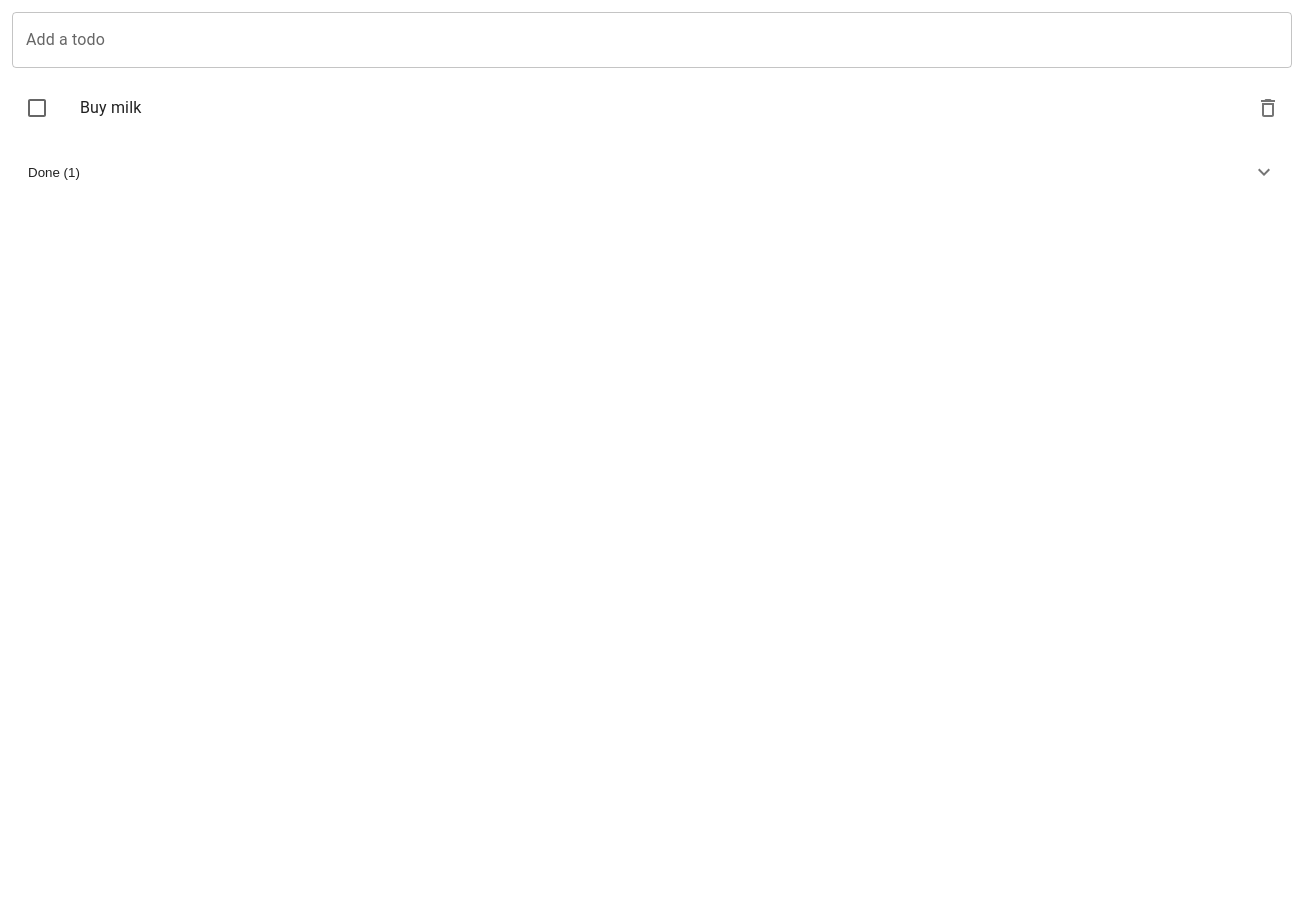
Test: a done todo deleted from Done goes right away, and Undo puts it back in Done
This screenshot has width=1304, height=912.
Click the button "Done (1)" at (48, 172), box [12,148,1292,196]
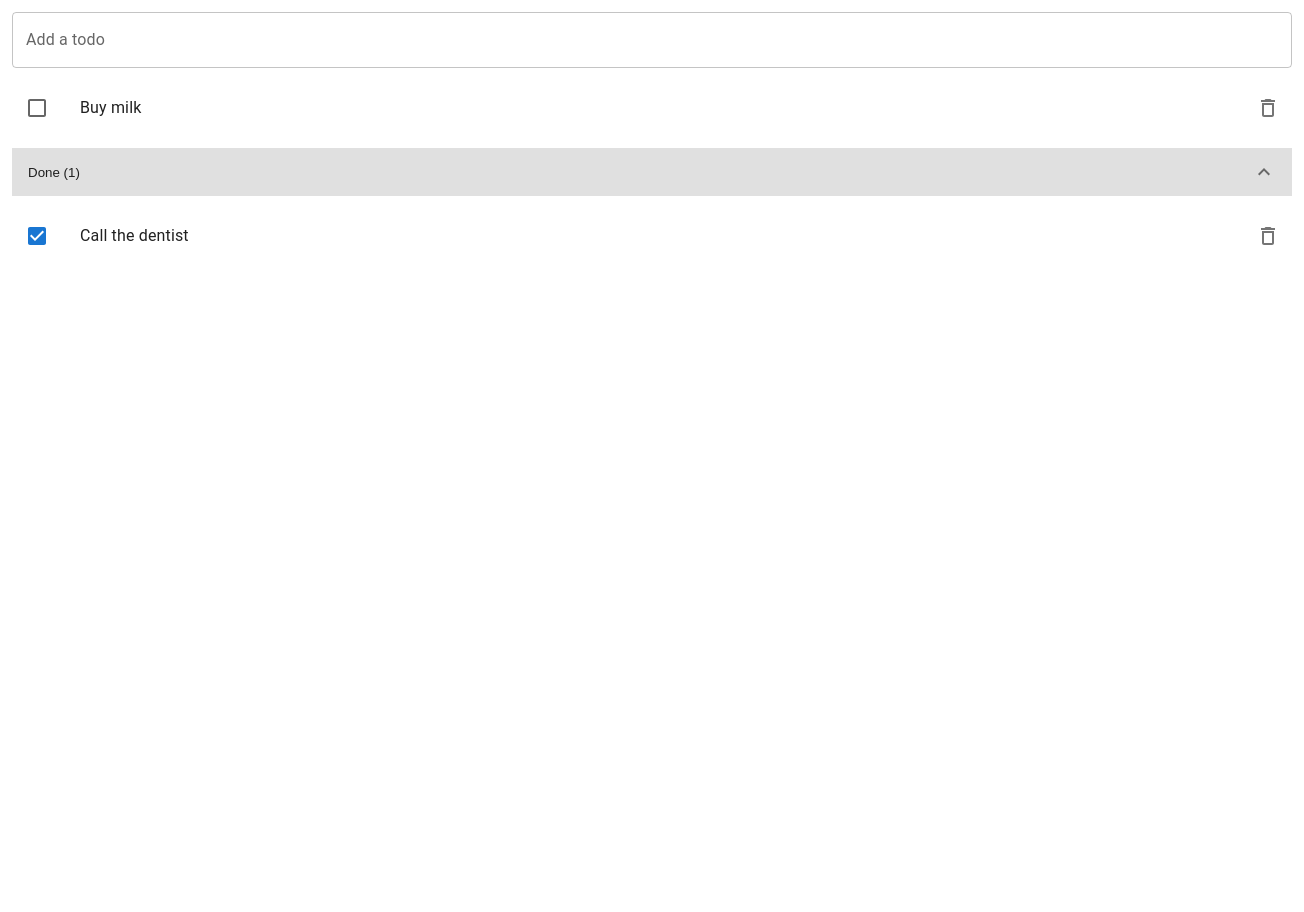
Click the button named "Delete Call the dentist" at (1268, 236), box [1248,216,1288,256]
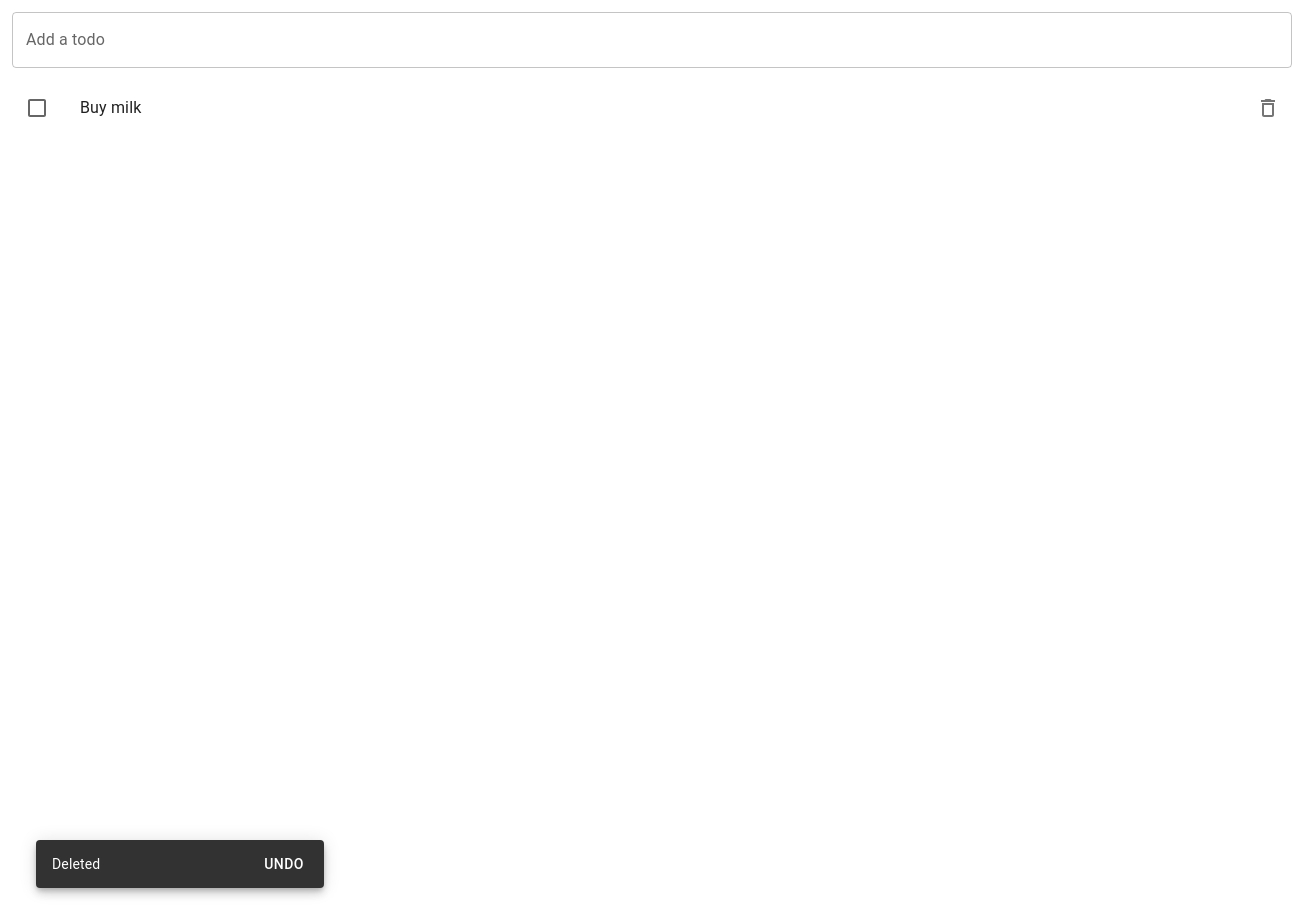
Expected: the button "Call the dentist" is gone
Expected: the button "Done" is gone
Click the button "Undo" at (284, 864), box [252,846,316,882]
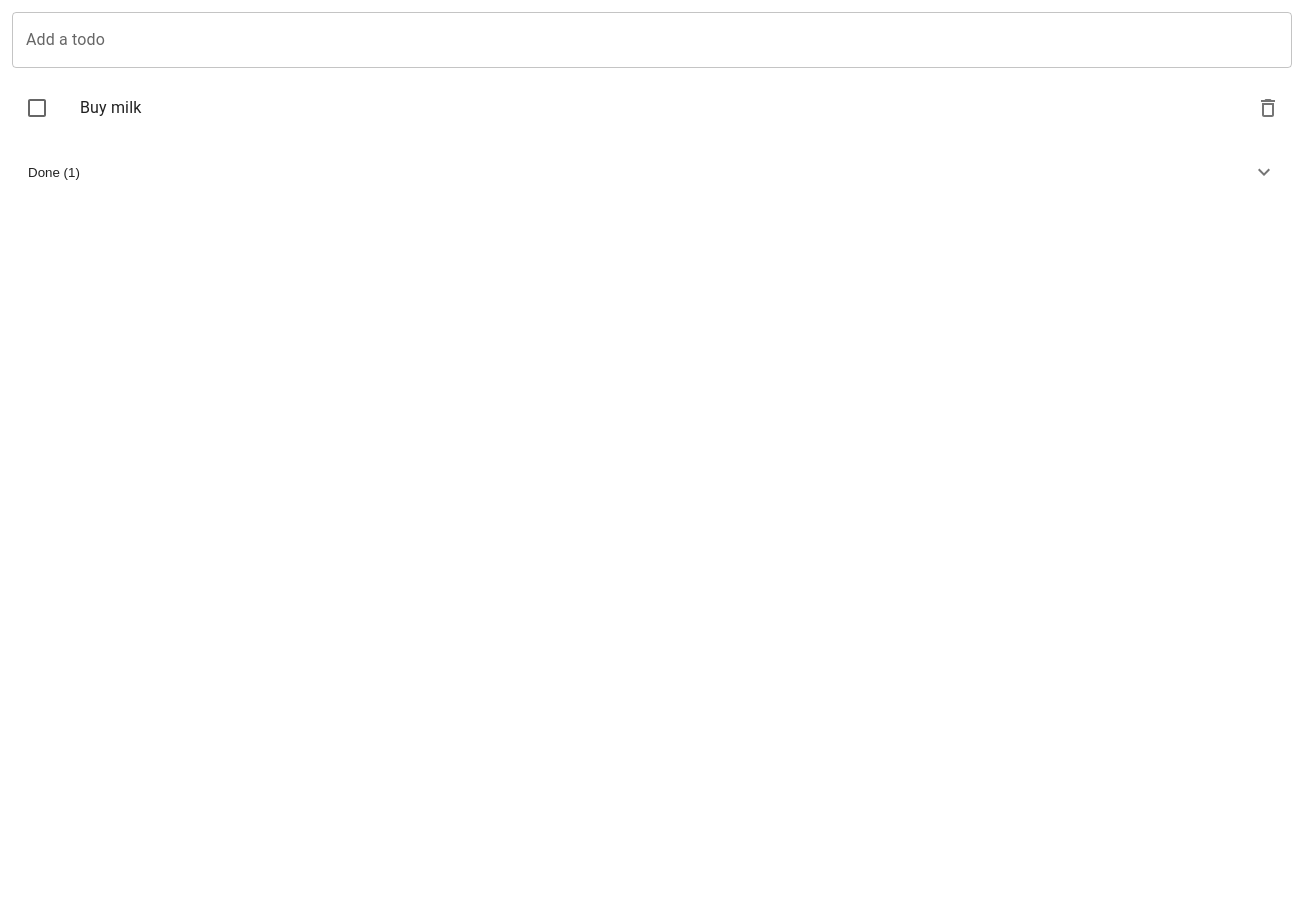
Click the button "Done (1)" at (48, 172), box [12,148,1292,196]
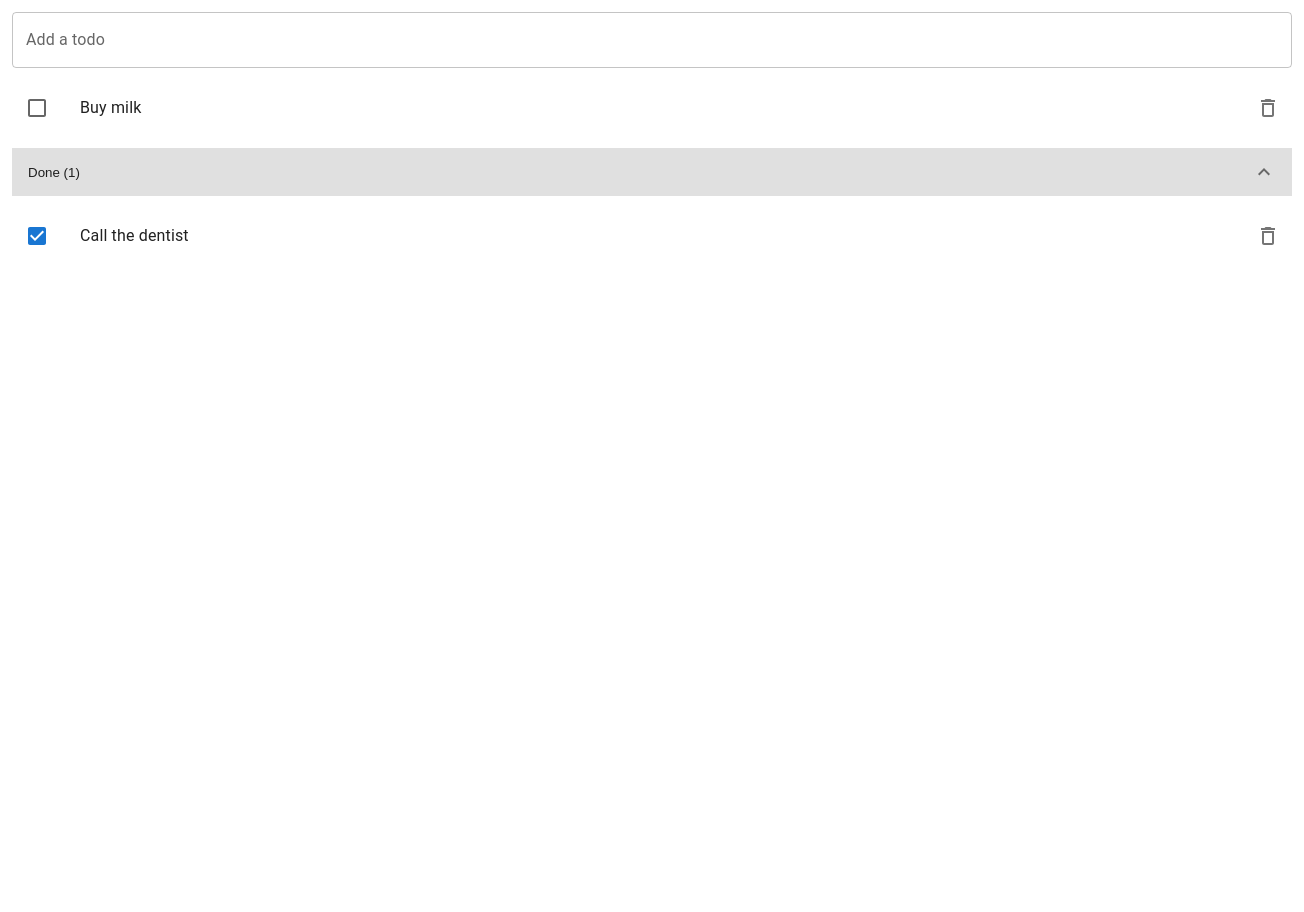
Expected: the checkbox labelled "Call the dentist" is checked, [25,224,49,248]
